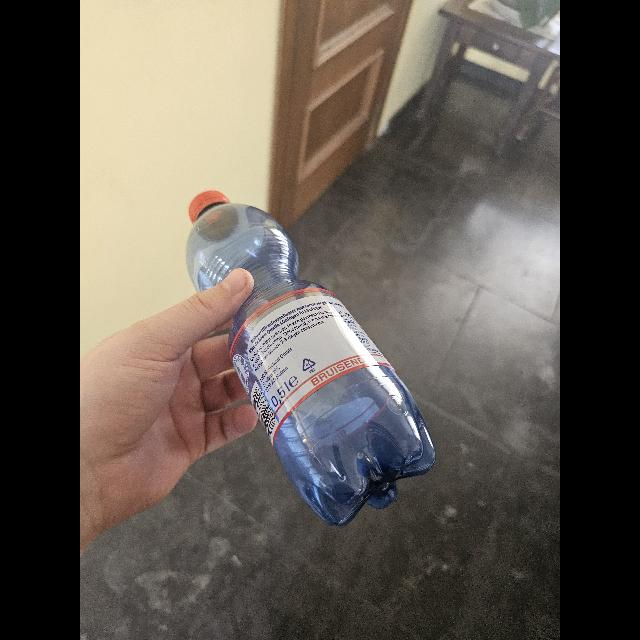Plastic: (185, 189, 439, 529)
